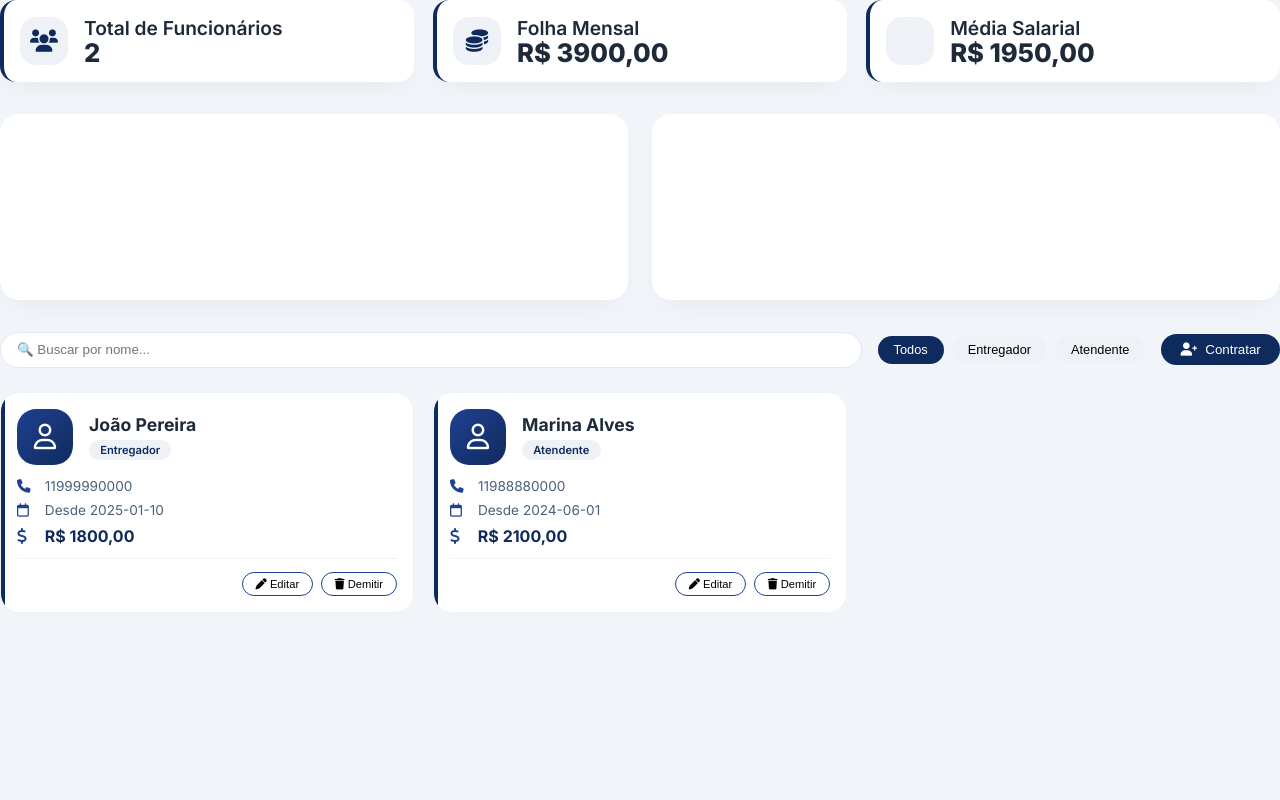
Test: EmployeesSection (painel admin — funcionários) › contratar funcionário: sucesso fecha o modal e atualiza com a lista do servidor
Click the button "Contratar" at (1221, 350), box [1161,334,1279,365]
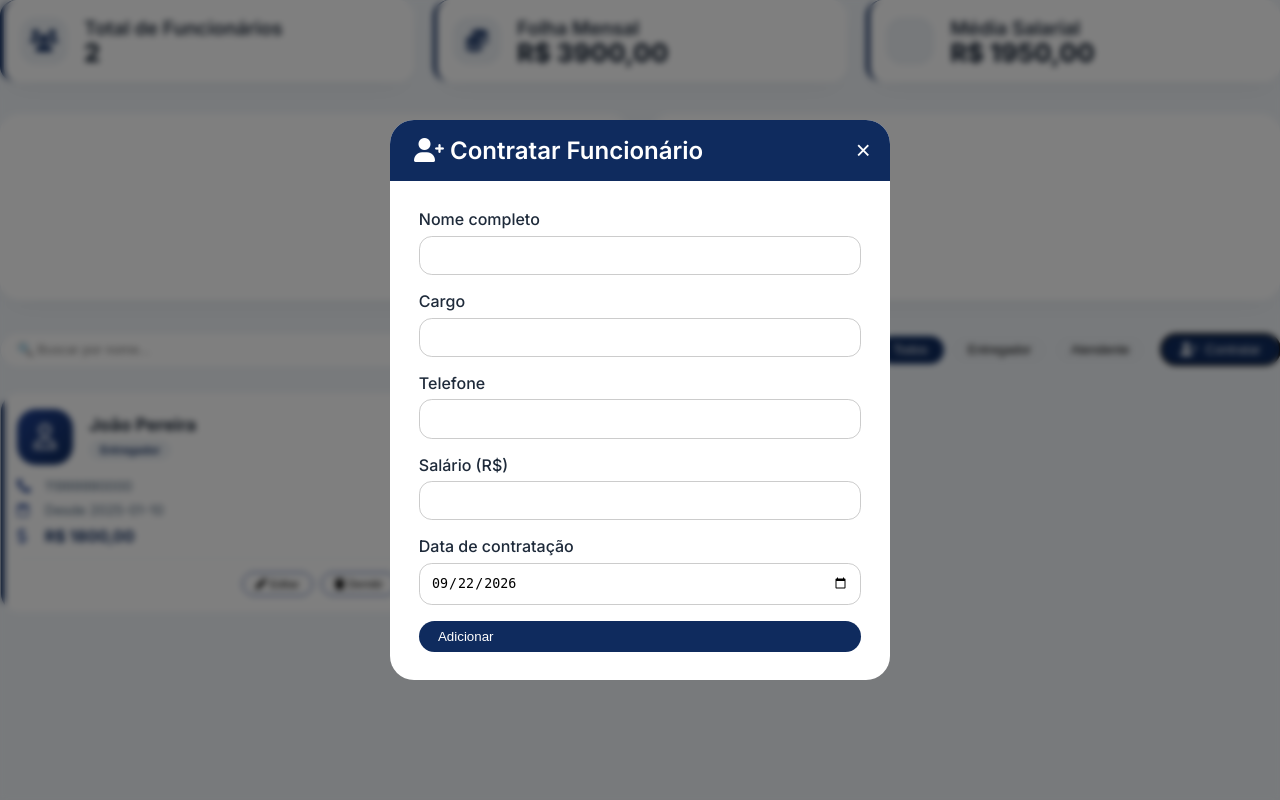
Type "Carla Nunes" into the field labelled "Nome completo" at (640, 256), box [419,236,861,275]
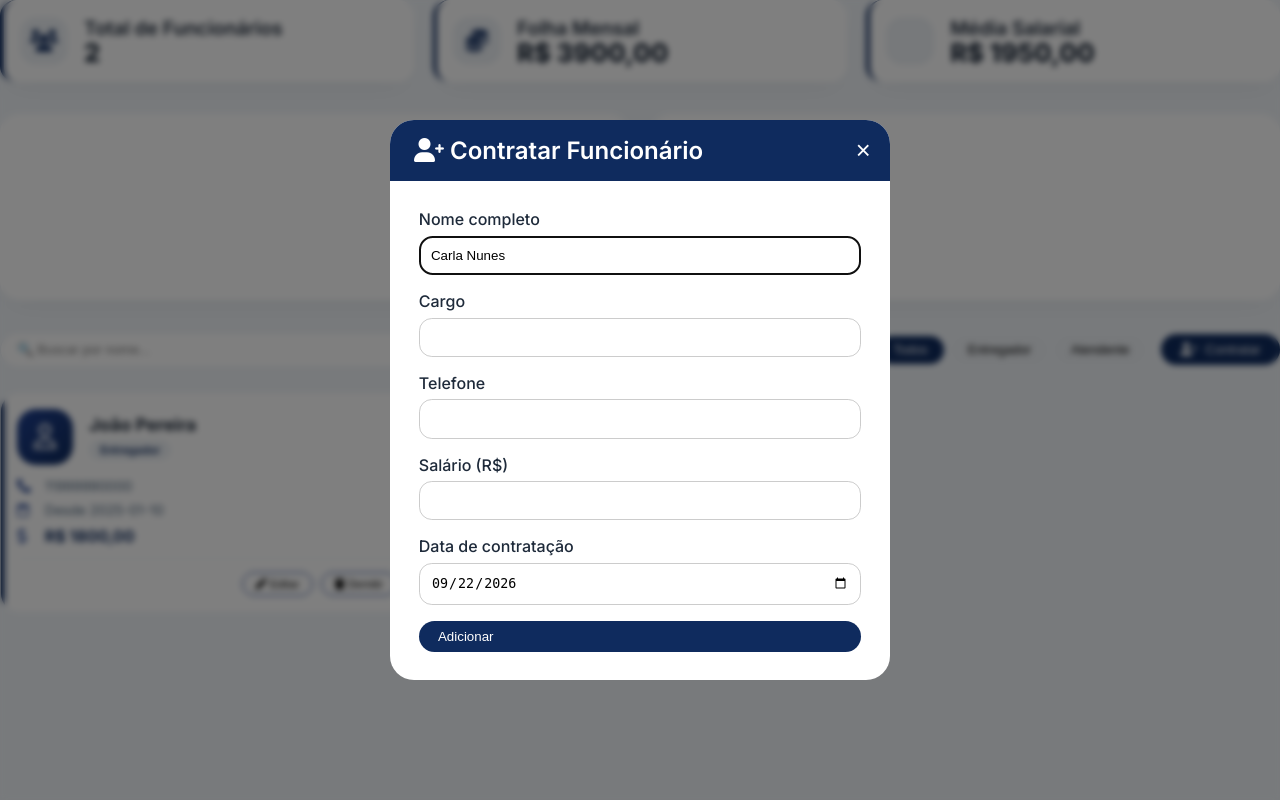
Type "Cozinheira" into the field labelled "Cargo" at (640, 337), box [419,318,861,357]
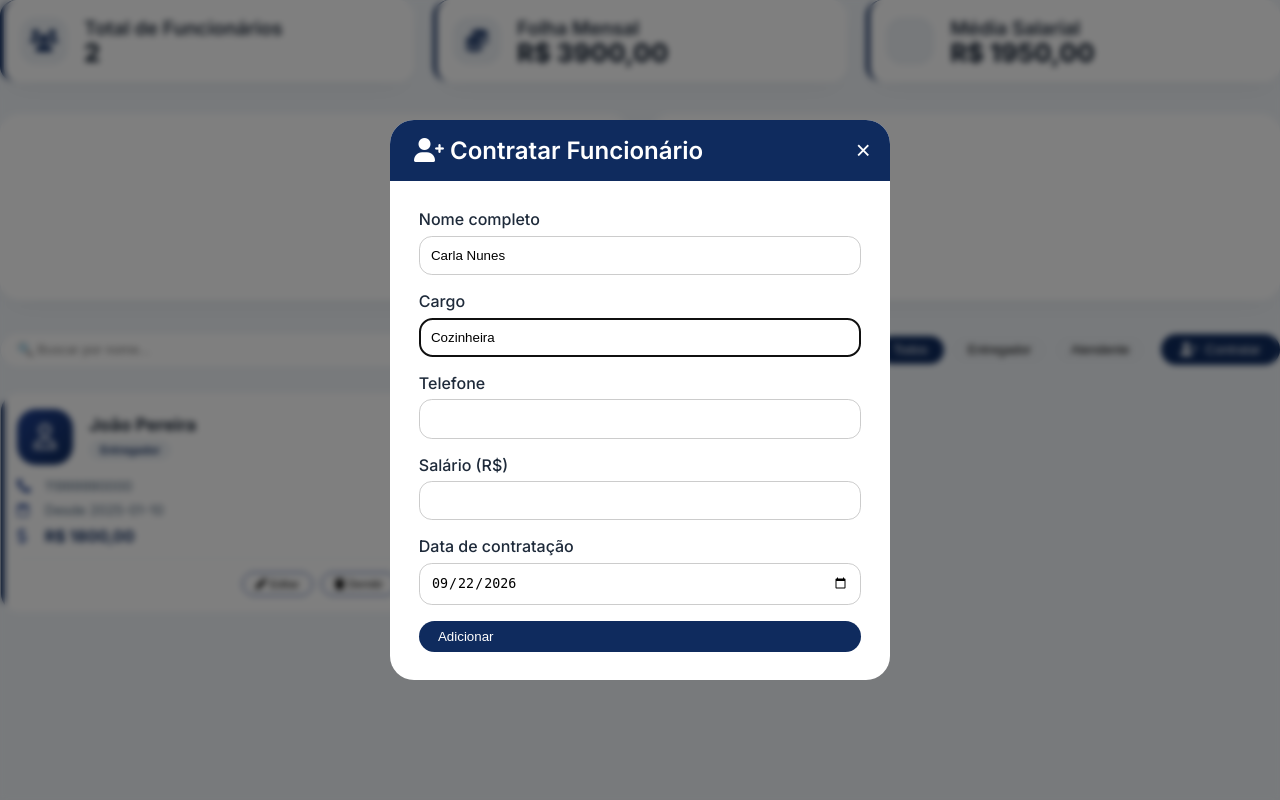
Type "11977770000" into the field labelled "Telefone" at (640, 419), box [419,399,861,439]
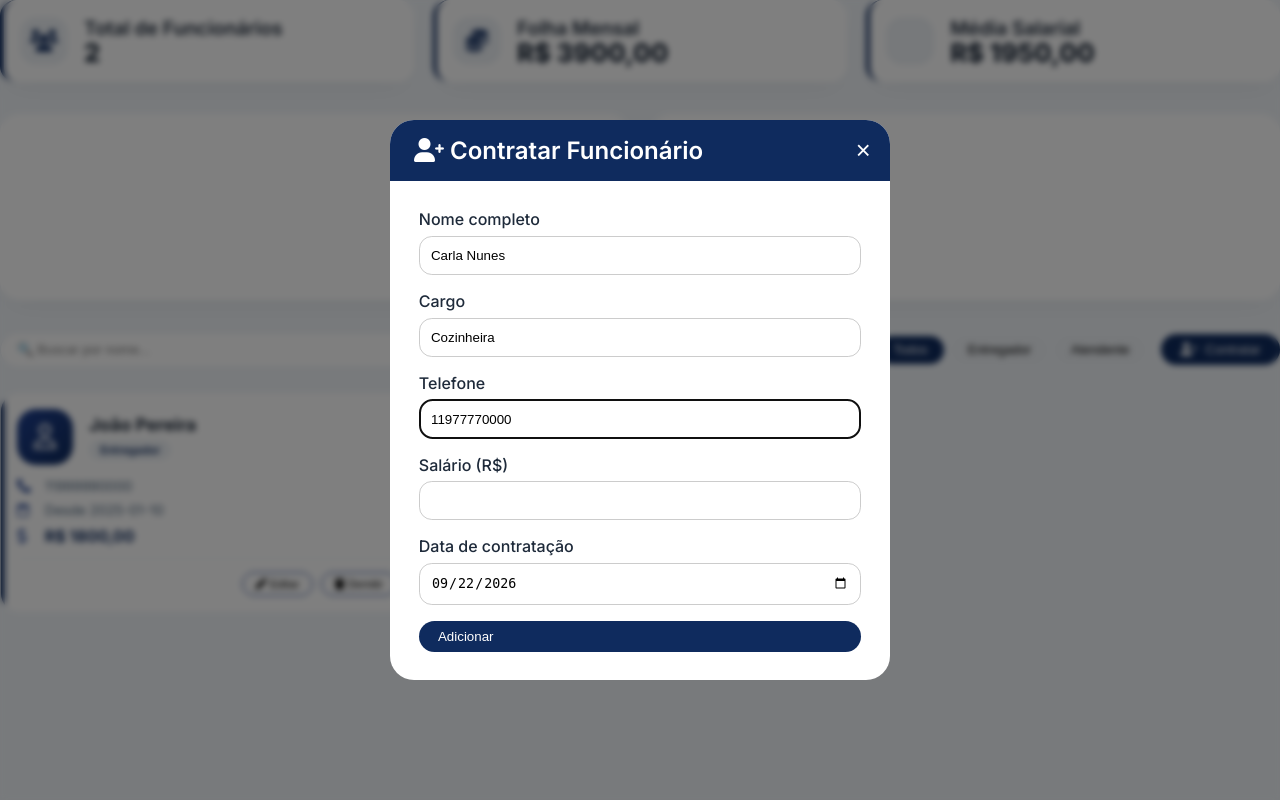
Type "2500" into the number field labelled "Salário (R$)" at (640, 501), box [419,481,861,520]
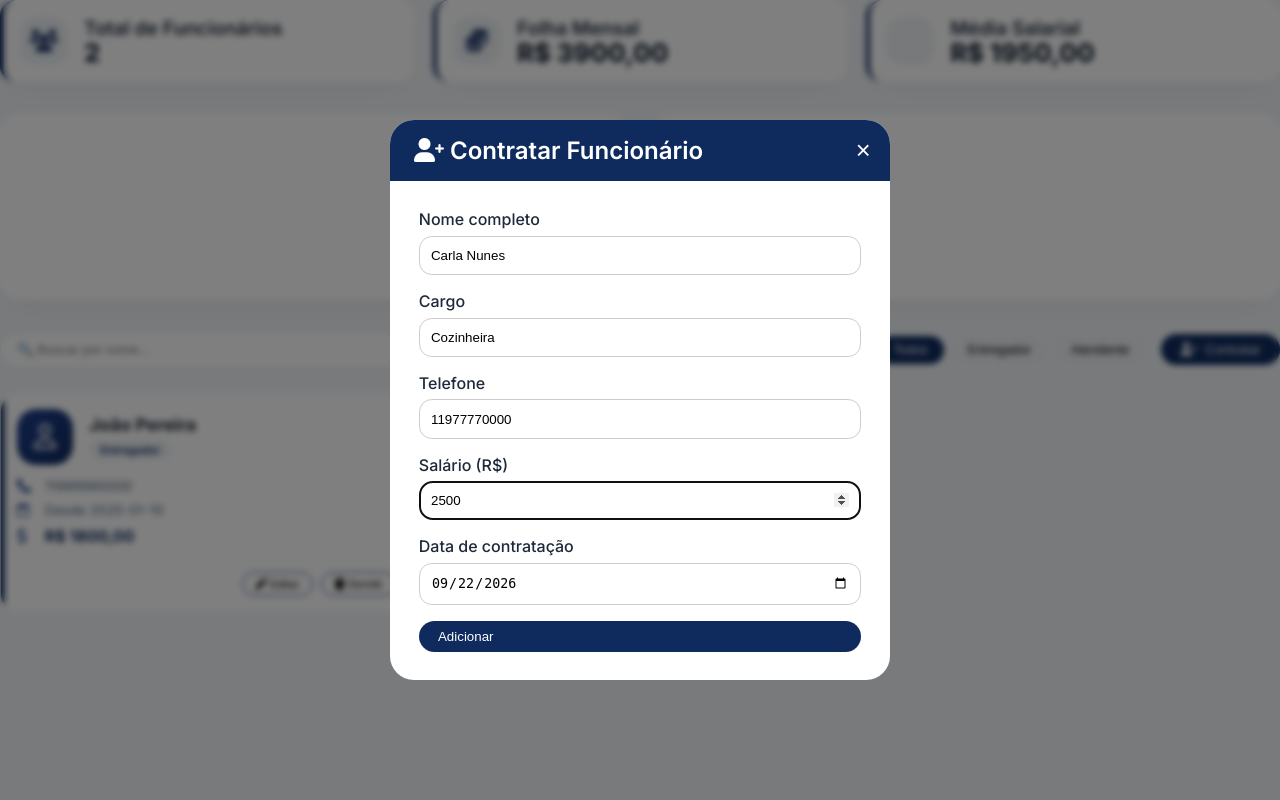
Click the button "Adicionar" at (466, 636), box [419,621,861,652]
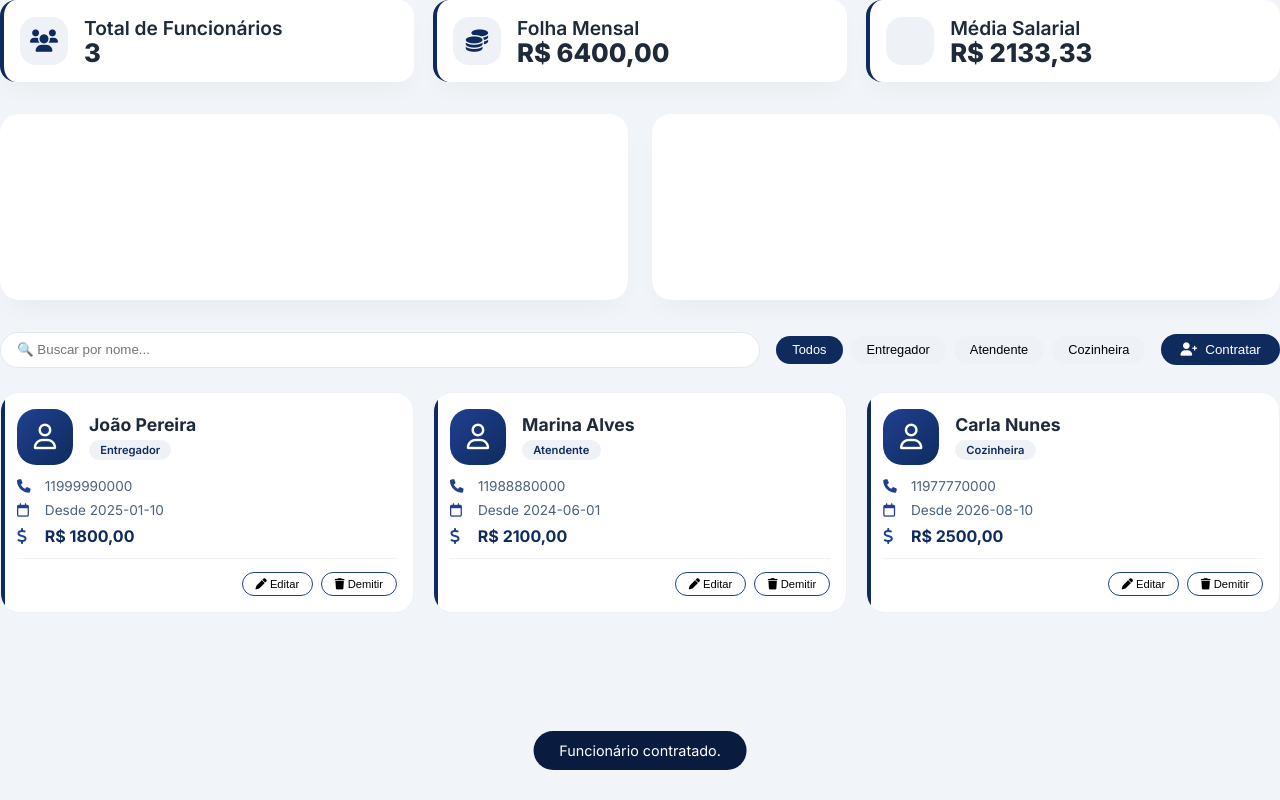
Expected: the text "Funcionário contratado." is shown, [534,731,746,770]
Expected: the heading "Carla Nunes" is shown, [955,414,1061,435]
